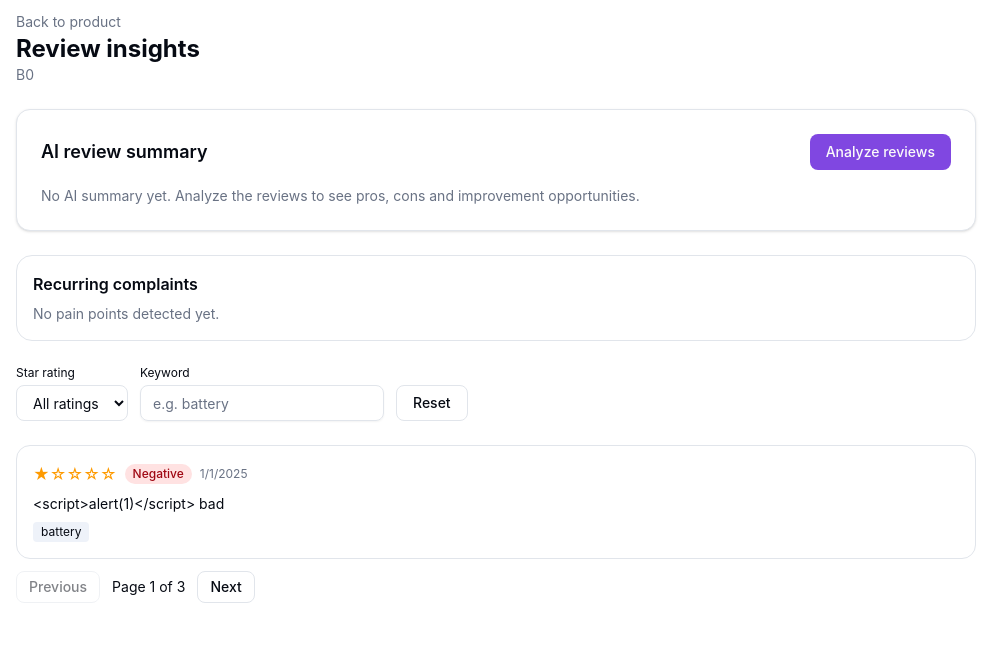
Scenario: ReviewsPage › shows a friendly message when analyze is rate limited
Click the button "Analyze reviews": (880, 152) [810,134,951,170]
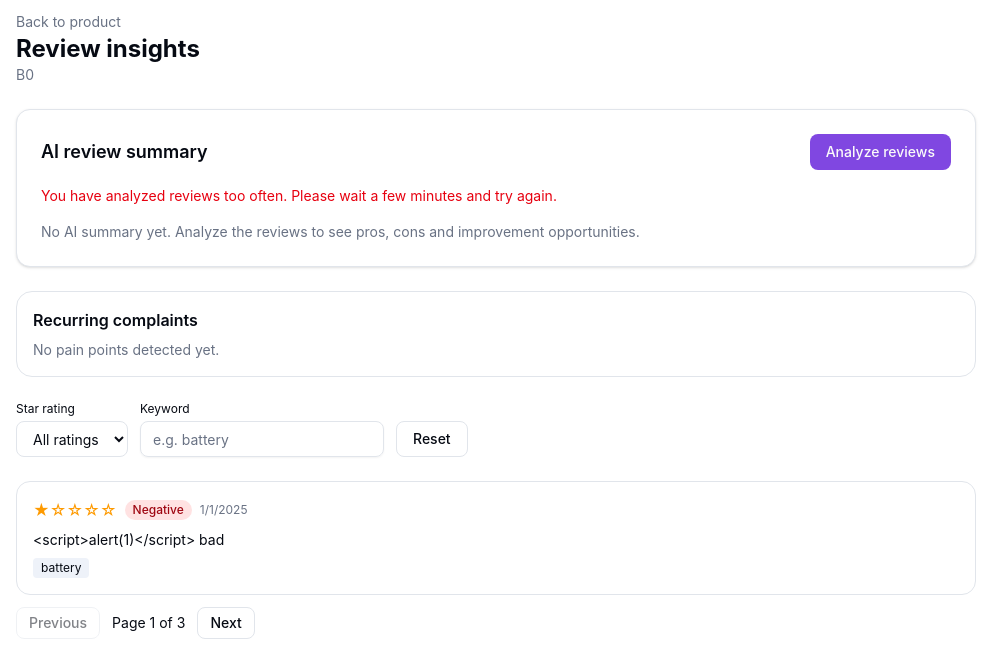
Now the text "You have analyzed reviews too often. Please wait a few minutes and try again." is shown, box [41,187,557,204]
